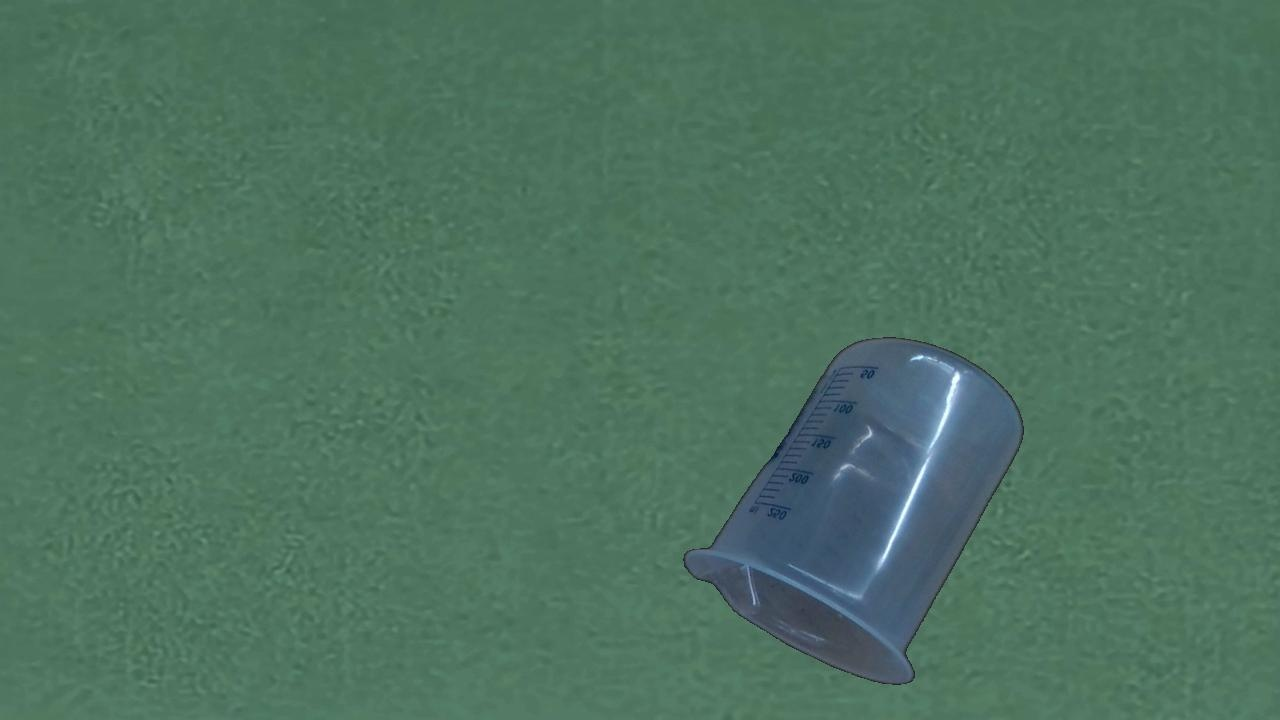becker: (684, 336, 1025, 688)
